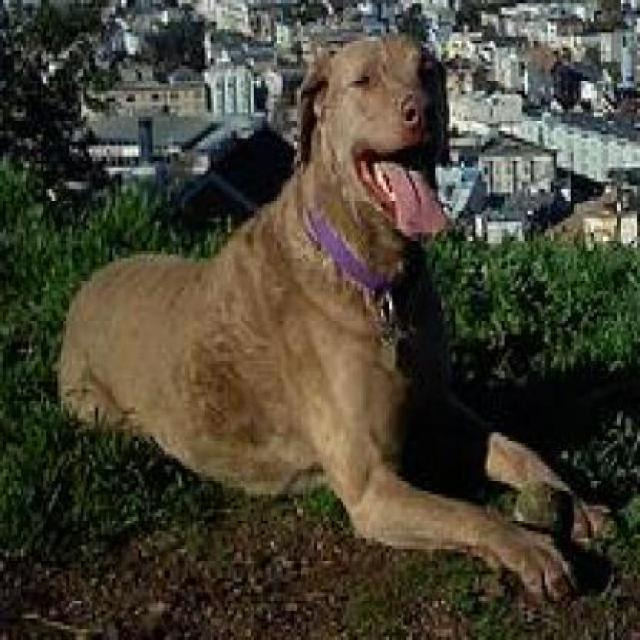Dog: (68, 35, 620, 603)
